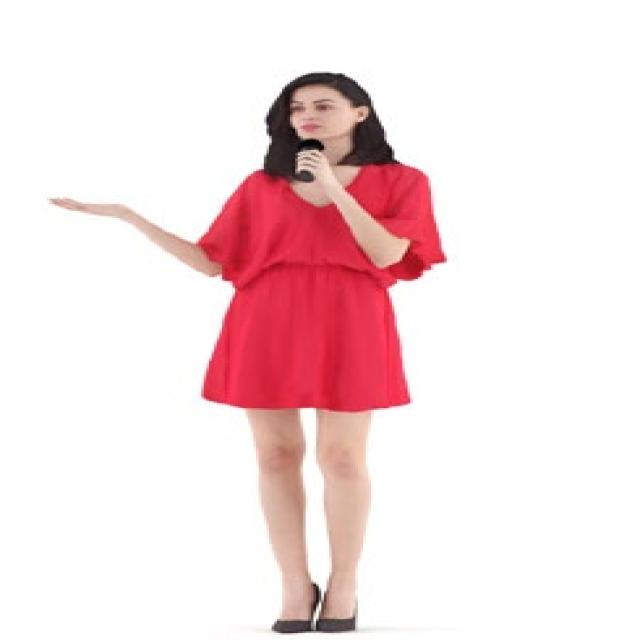standing: (41, 70, 443, 635)
